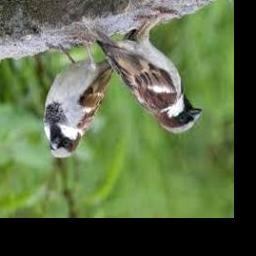Sparrow: (80, 14, 203, 134), (44, 30, 140, 159)
